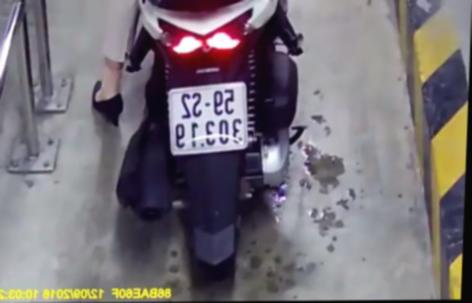License_Plate: (162, 77, 256, 162)
